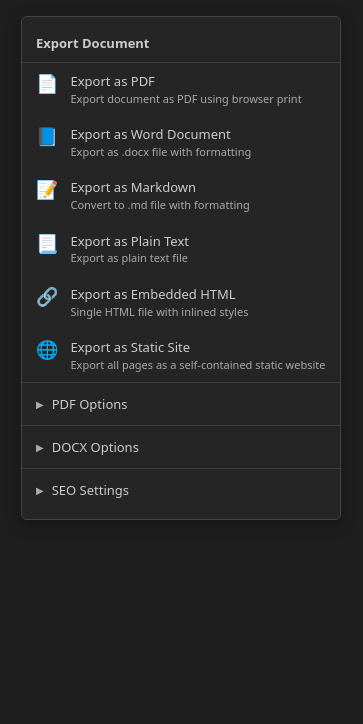
ExportDialog.vue › PDF Options Section › shows preset selector dropdown
Click the button "▶ PDF Options" at x=82, y=404, box [36, 391, 128, 417]
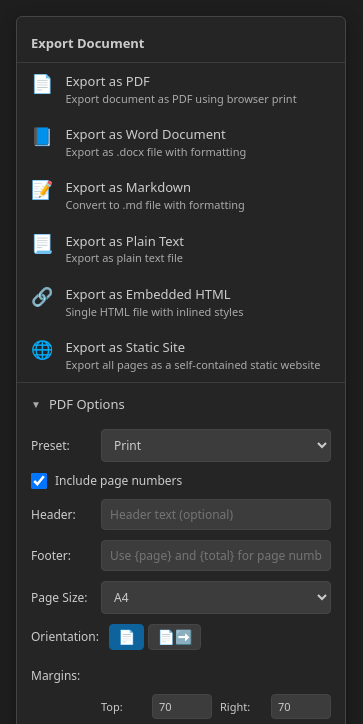
Expected: the dropdown labelled "Preset:" is shown, [101, 429, 331, 462]
